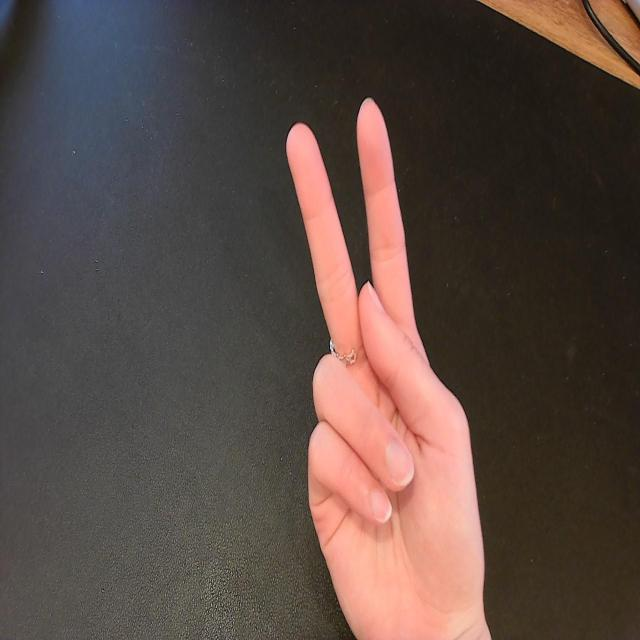K: (278, 89, 488, 630)
